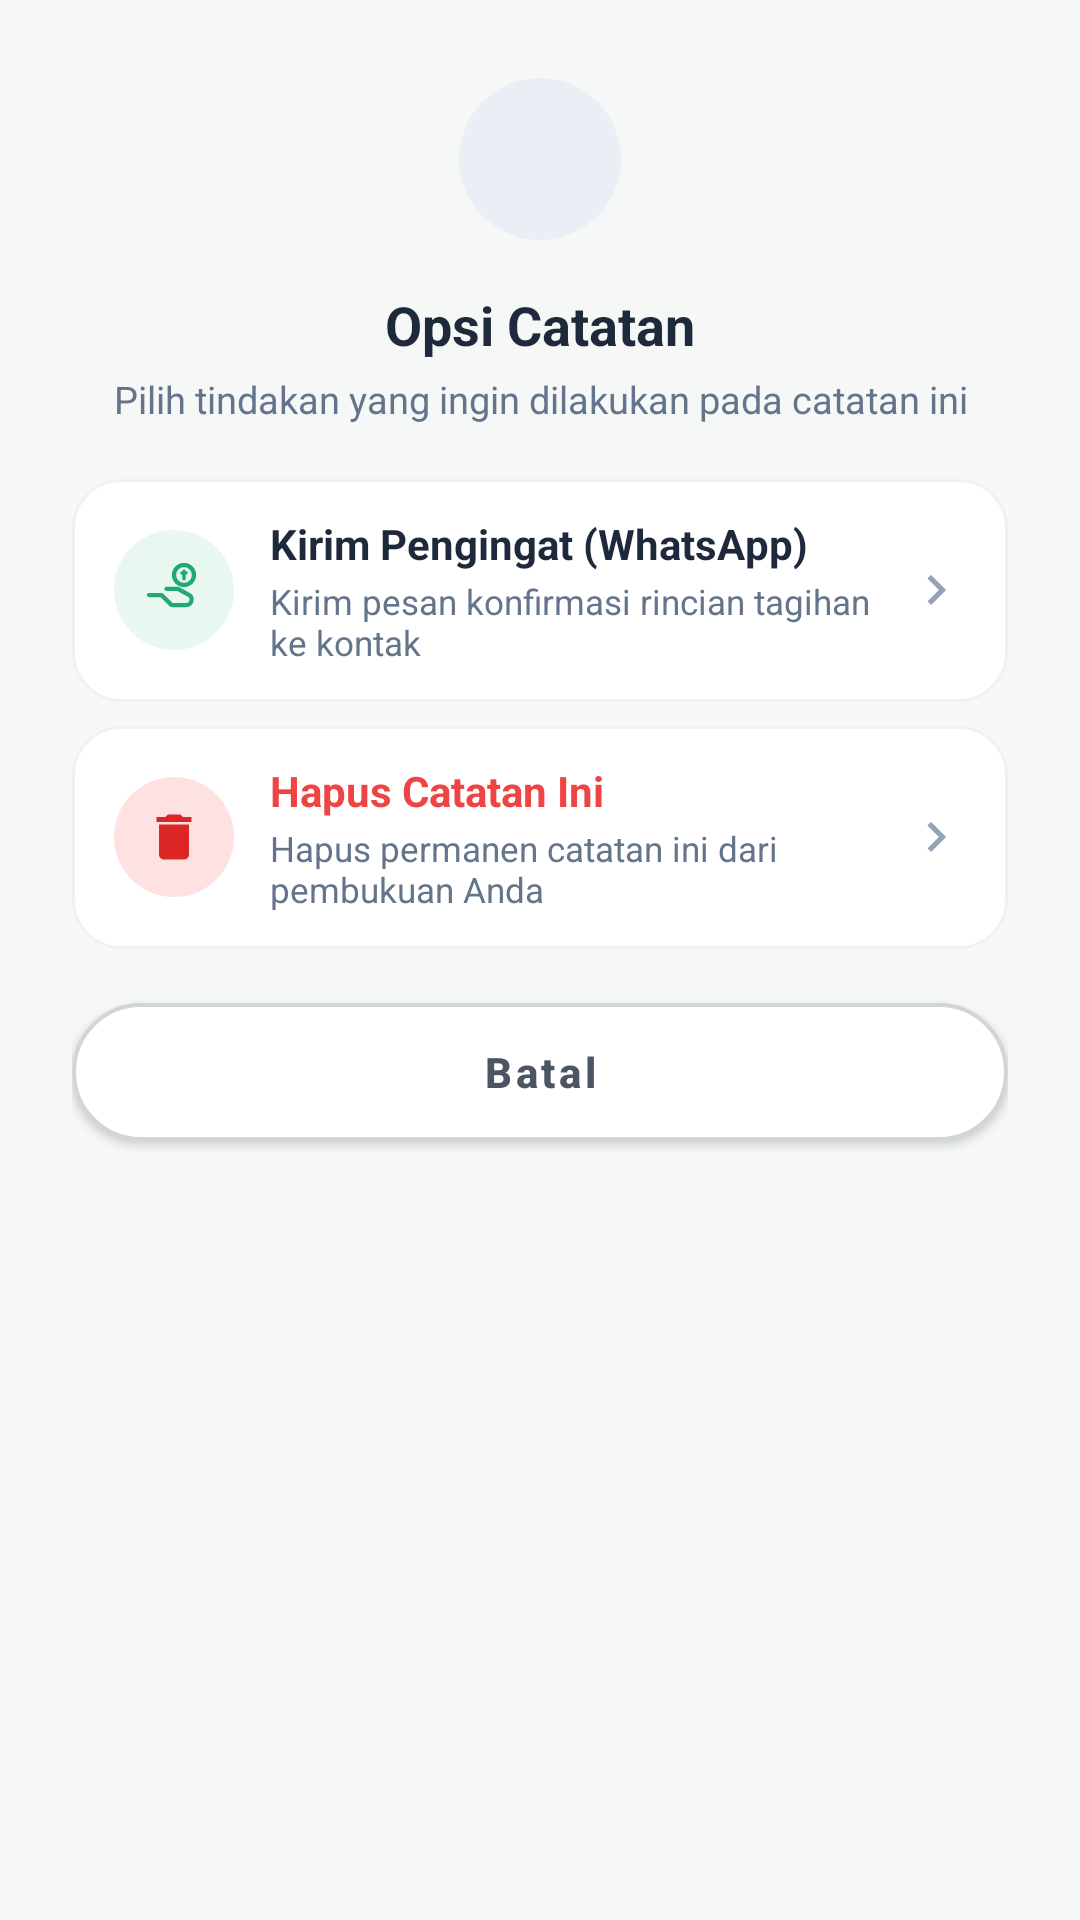

Locate icon controls on the screen. Image size 1080×1920, boxes as (x1, y1, x2, y2).
keyboard arrow right: (927, 575, 946, 605), (927, 822, 946, 852)
trash delete: (156, 814, 192, 860)
